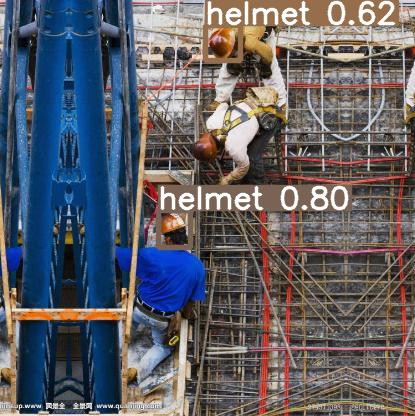helmet: (205, 25, 240, 60), (158, 210, 190, 247)
